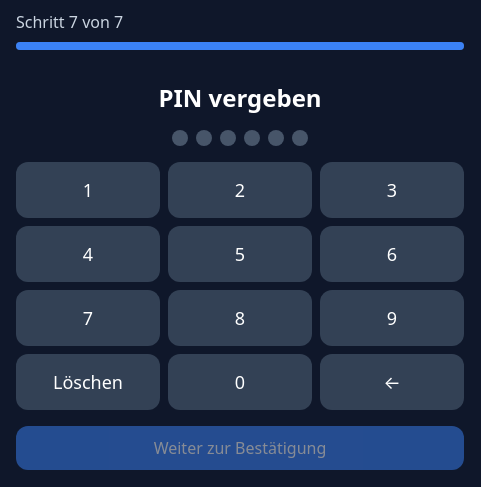
Test case: SetupWizard › firstPin !== null branch: shows "Fertig" label after advancing to confirm phase
The width and height of the screenshot is (481, 487).
Click the button "1" at (88,190), box x1=16 y1=162 x2=160 y2=218
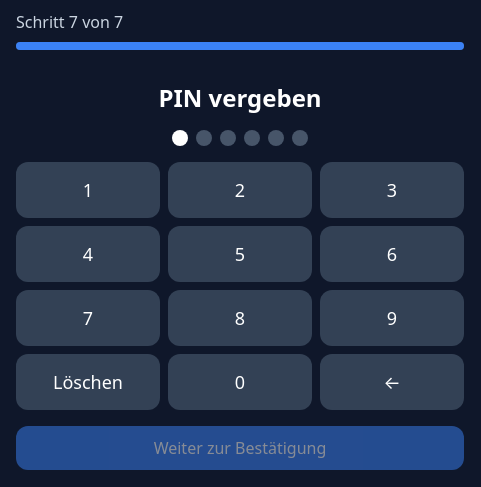
Click the button "2" at (240,190), box x1=168 y1=162 x2=312 y2=218
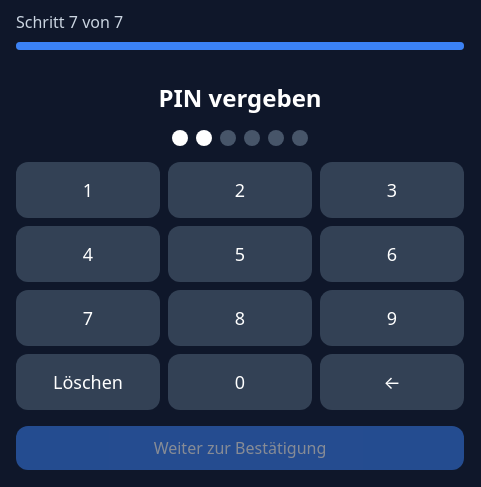
Click the button "3" at (392,190), box x1=320 y1=162 x2=464 y2=218
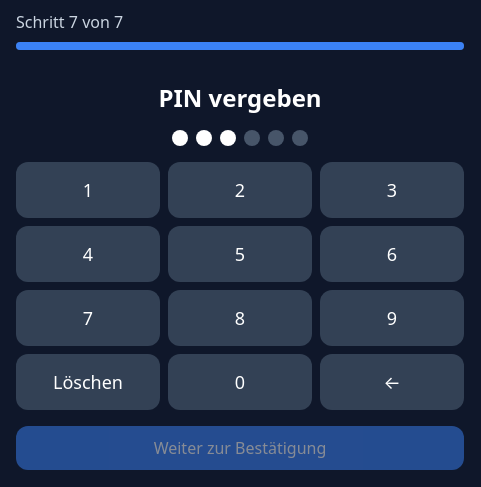
Click the button "4" at (88,254), box x1=16 y1=226 x2=160 y2=282
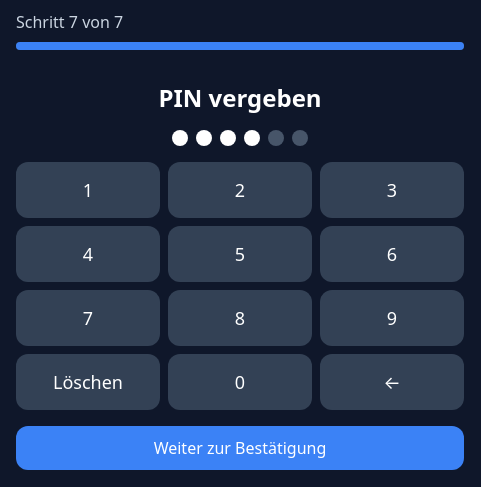
Click the button "Weiter zur Bestätigung" at (240,448), box x1=16 y1=426 x2=464 y2=470
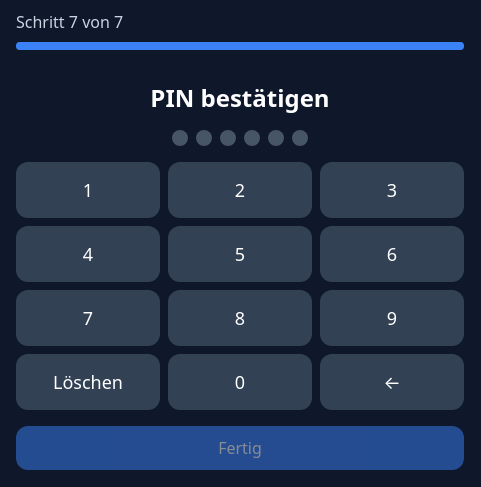
Check: the button "Fertig" is shown, box x1=16 y1=426 x2=464 y2=470
